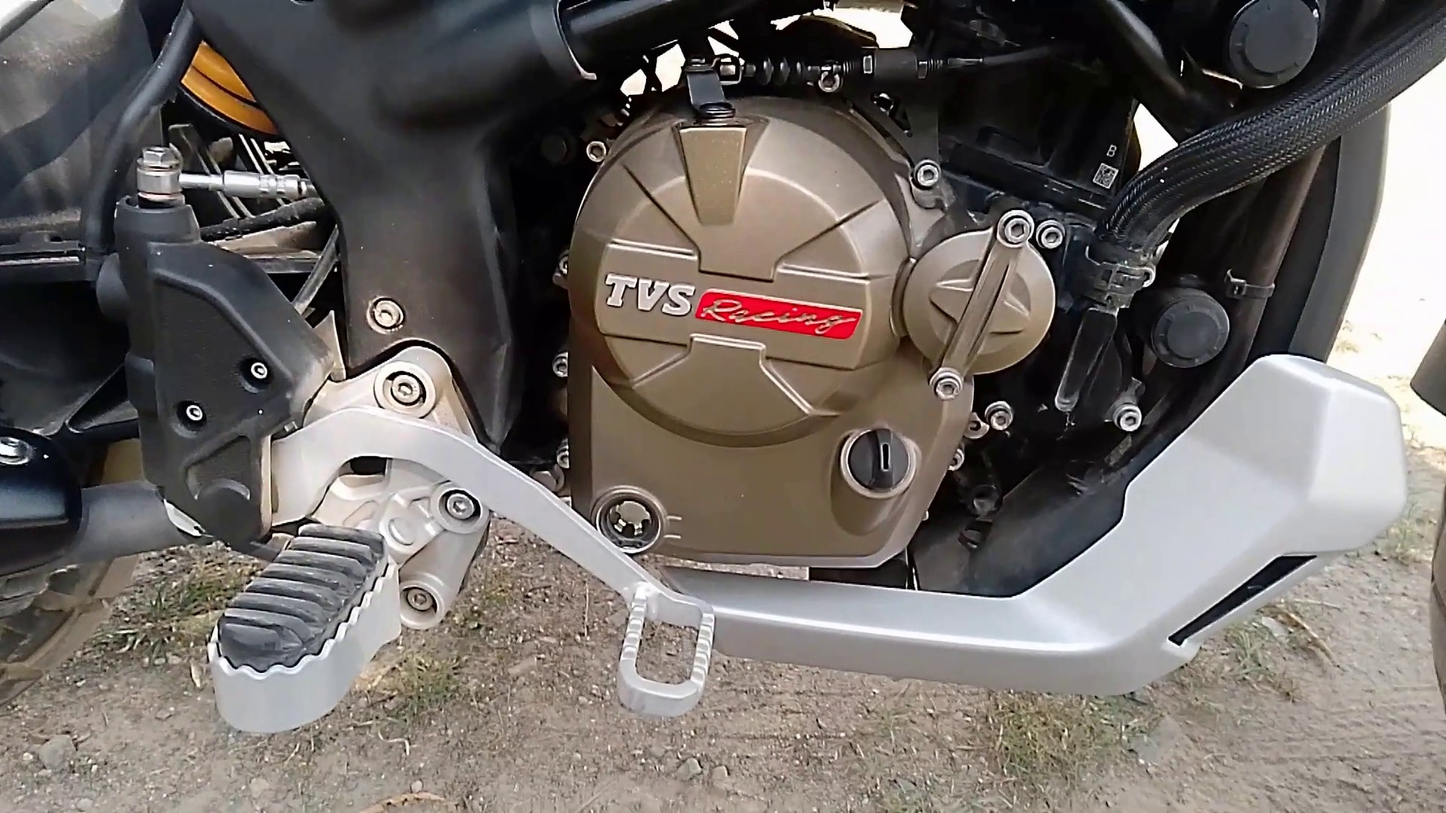engine: (533, 62, 1092, 597)
oil_cap: (832, 408, 924, 504)
oil_marker: (576, 463, 704, 565)
